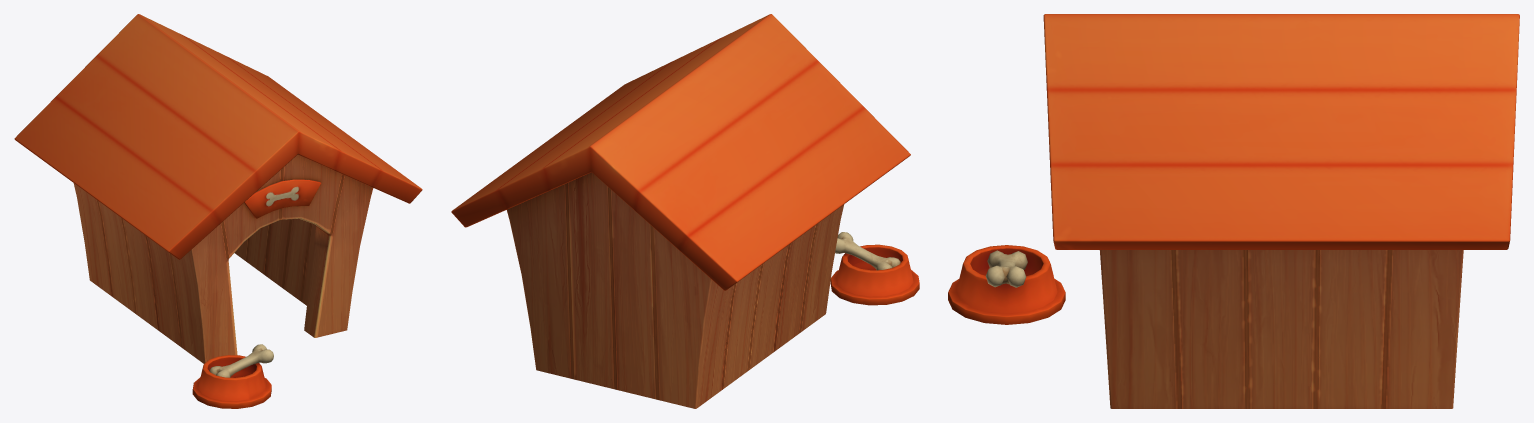
Rendered from DogsHouse01.FBX.
The picture shows the model from 3 angles, left to right: view 1: azimuth 30°, elevation 25°; view 2: azimuth 150°, elevation 25°; view 3: azimuth 270°, elevation 25°; orthographic projection. The views are drawn at different scales.
Parts seen in each view (by area): view 1: DogsHouse01; view 2: DogsHouse01; view 3: DogsHouse01.
Boxes of the visible parts, bbox=[...] form: DogsHouse01: bbox=[14, 14, 422, 408]; DogsHouse01: bbox=[451, 14, 919, 408]; DogsHouse01: bbox=[948, 14, 1519, 408].
Size of what is drawn, in the model's own units: 1.14 by 0.9944 by 1.5.
